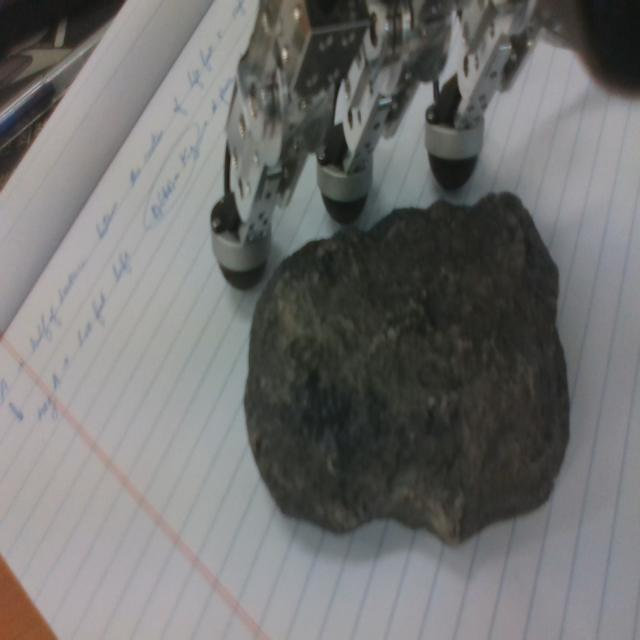stone: (244, 191, 571, 546)
